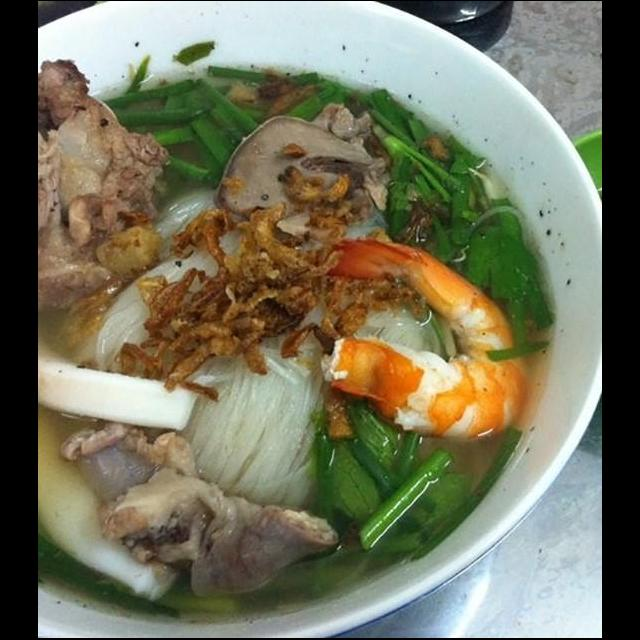banh hu tieu: (84, 177, 348, 528)
gan: (208, 94, 400, 246)
hu tieu: (38, 34, 601, 638), (332, 208, 454, 374)
muc: (39, 410, 184, 610), (39, 337, 208, 438)
thit heo: (39, 51, 176, 314)
tom: (306, 227, 541, 448)
